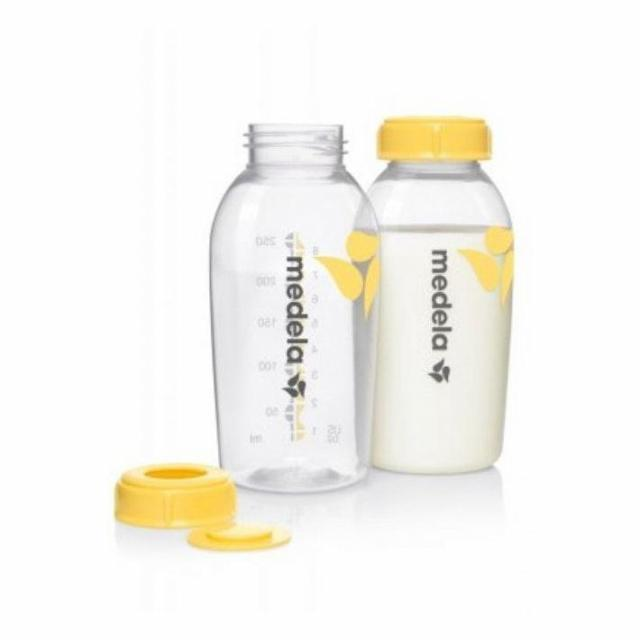plastic_bottle: (201, 95, 378, 523), (353, 85, 522, 480)
